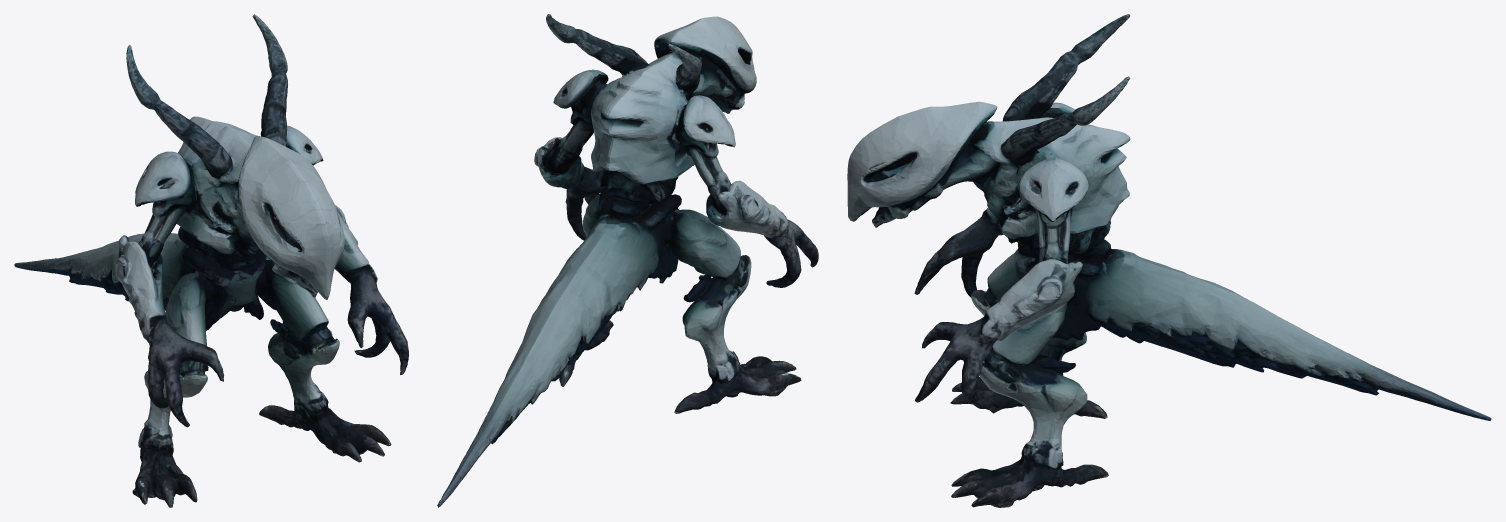
Rendered from construct_robotenemylarge.glb.
3 views of the same model, side by side, from view 1: azimuth 30°, elevation 25°; view 2: azimuth 150°, elevation 25°; view 3: azimuth 270°, elevation 25° (orthographic). The views are drawn at different scales.
Parts seen in each view (by area): view 1: textured_mesh.obj; view 2: textured_mesh.obj; view 3: textured_mesh.obj.
Part boxes in pixels (x1=…): textured_mesh.obj: x1=14, y1=14, x2=408, y2=507; textured_mesh.obj: x1=437, y1=14, x2=818, y2=507; textured_mesh.obj: x1=847, y1=14, x2=1491, y2=507.
Size of the model in its own units: 0.9039 by 1.39 by 1.99.
Materials: 1 (1 with a texture image).
